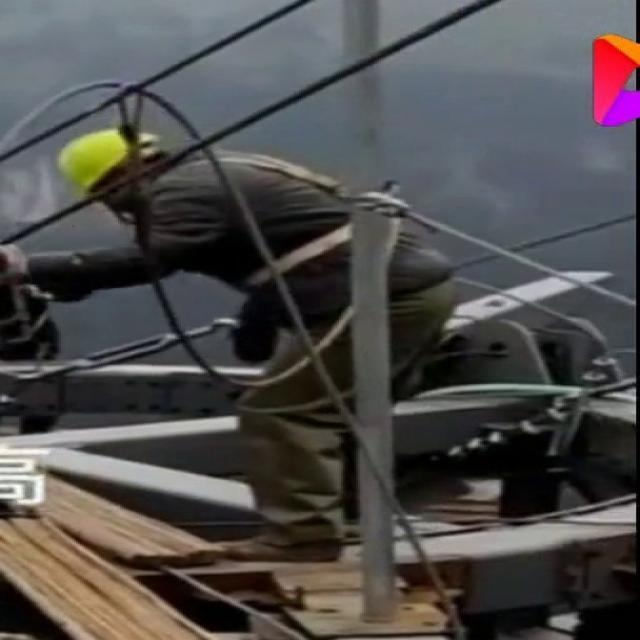Arnes_seguridad: (158, 143, 450, 294)
